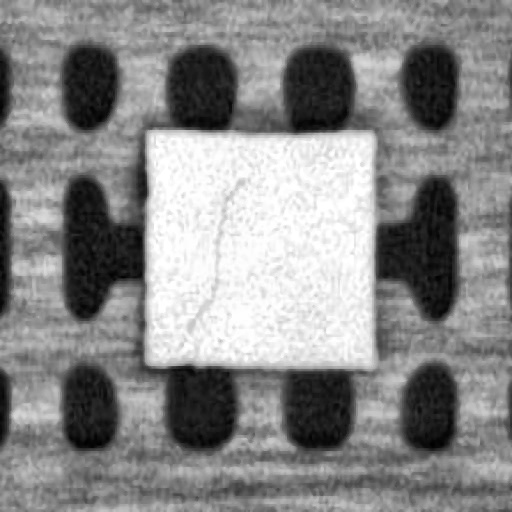DIE_CRACK: (172, 165, 253, 350)
